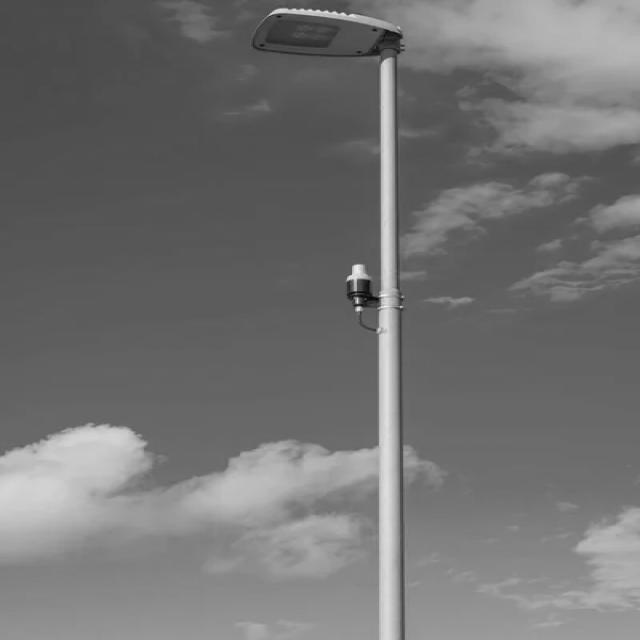Pole: (256, 8, 405, 640)
